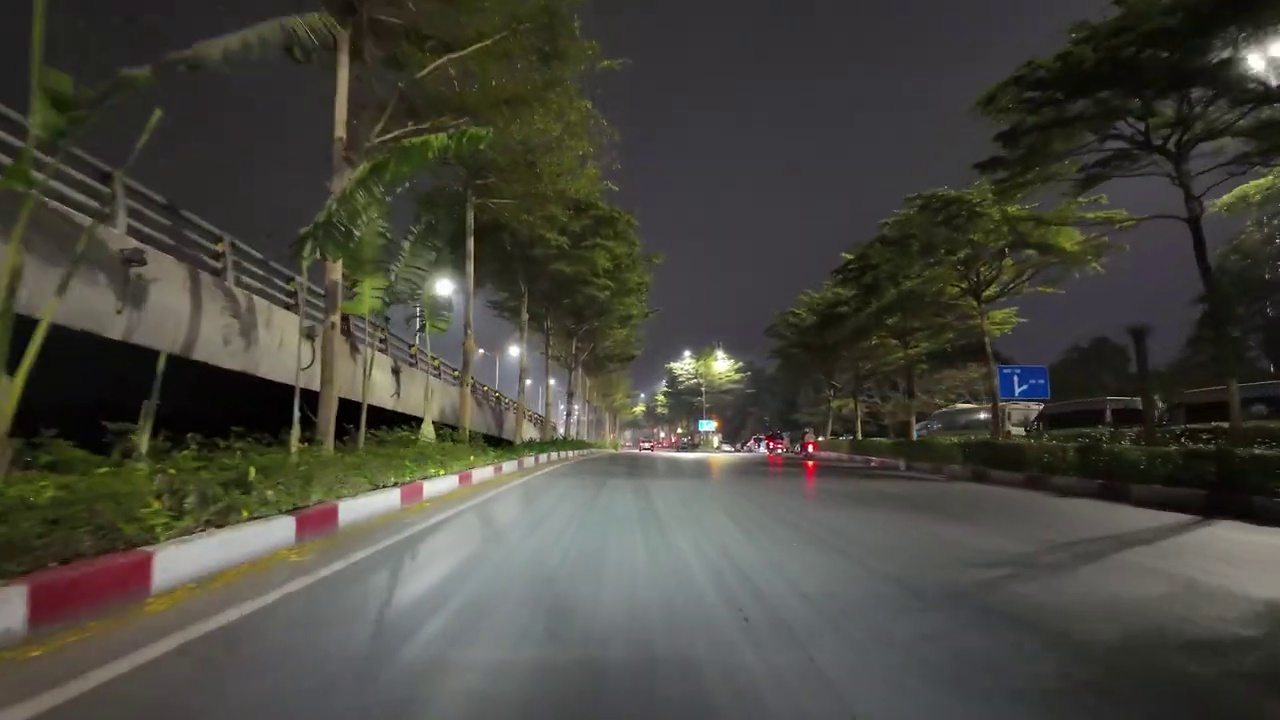acesa: (705, 349, 736, 381), (431, 275, 457, 300)
